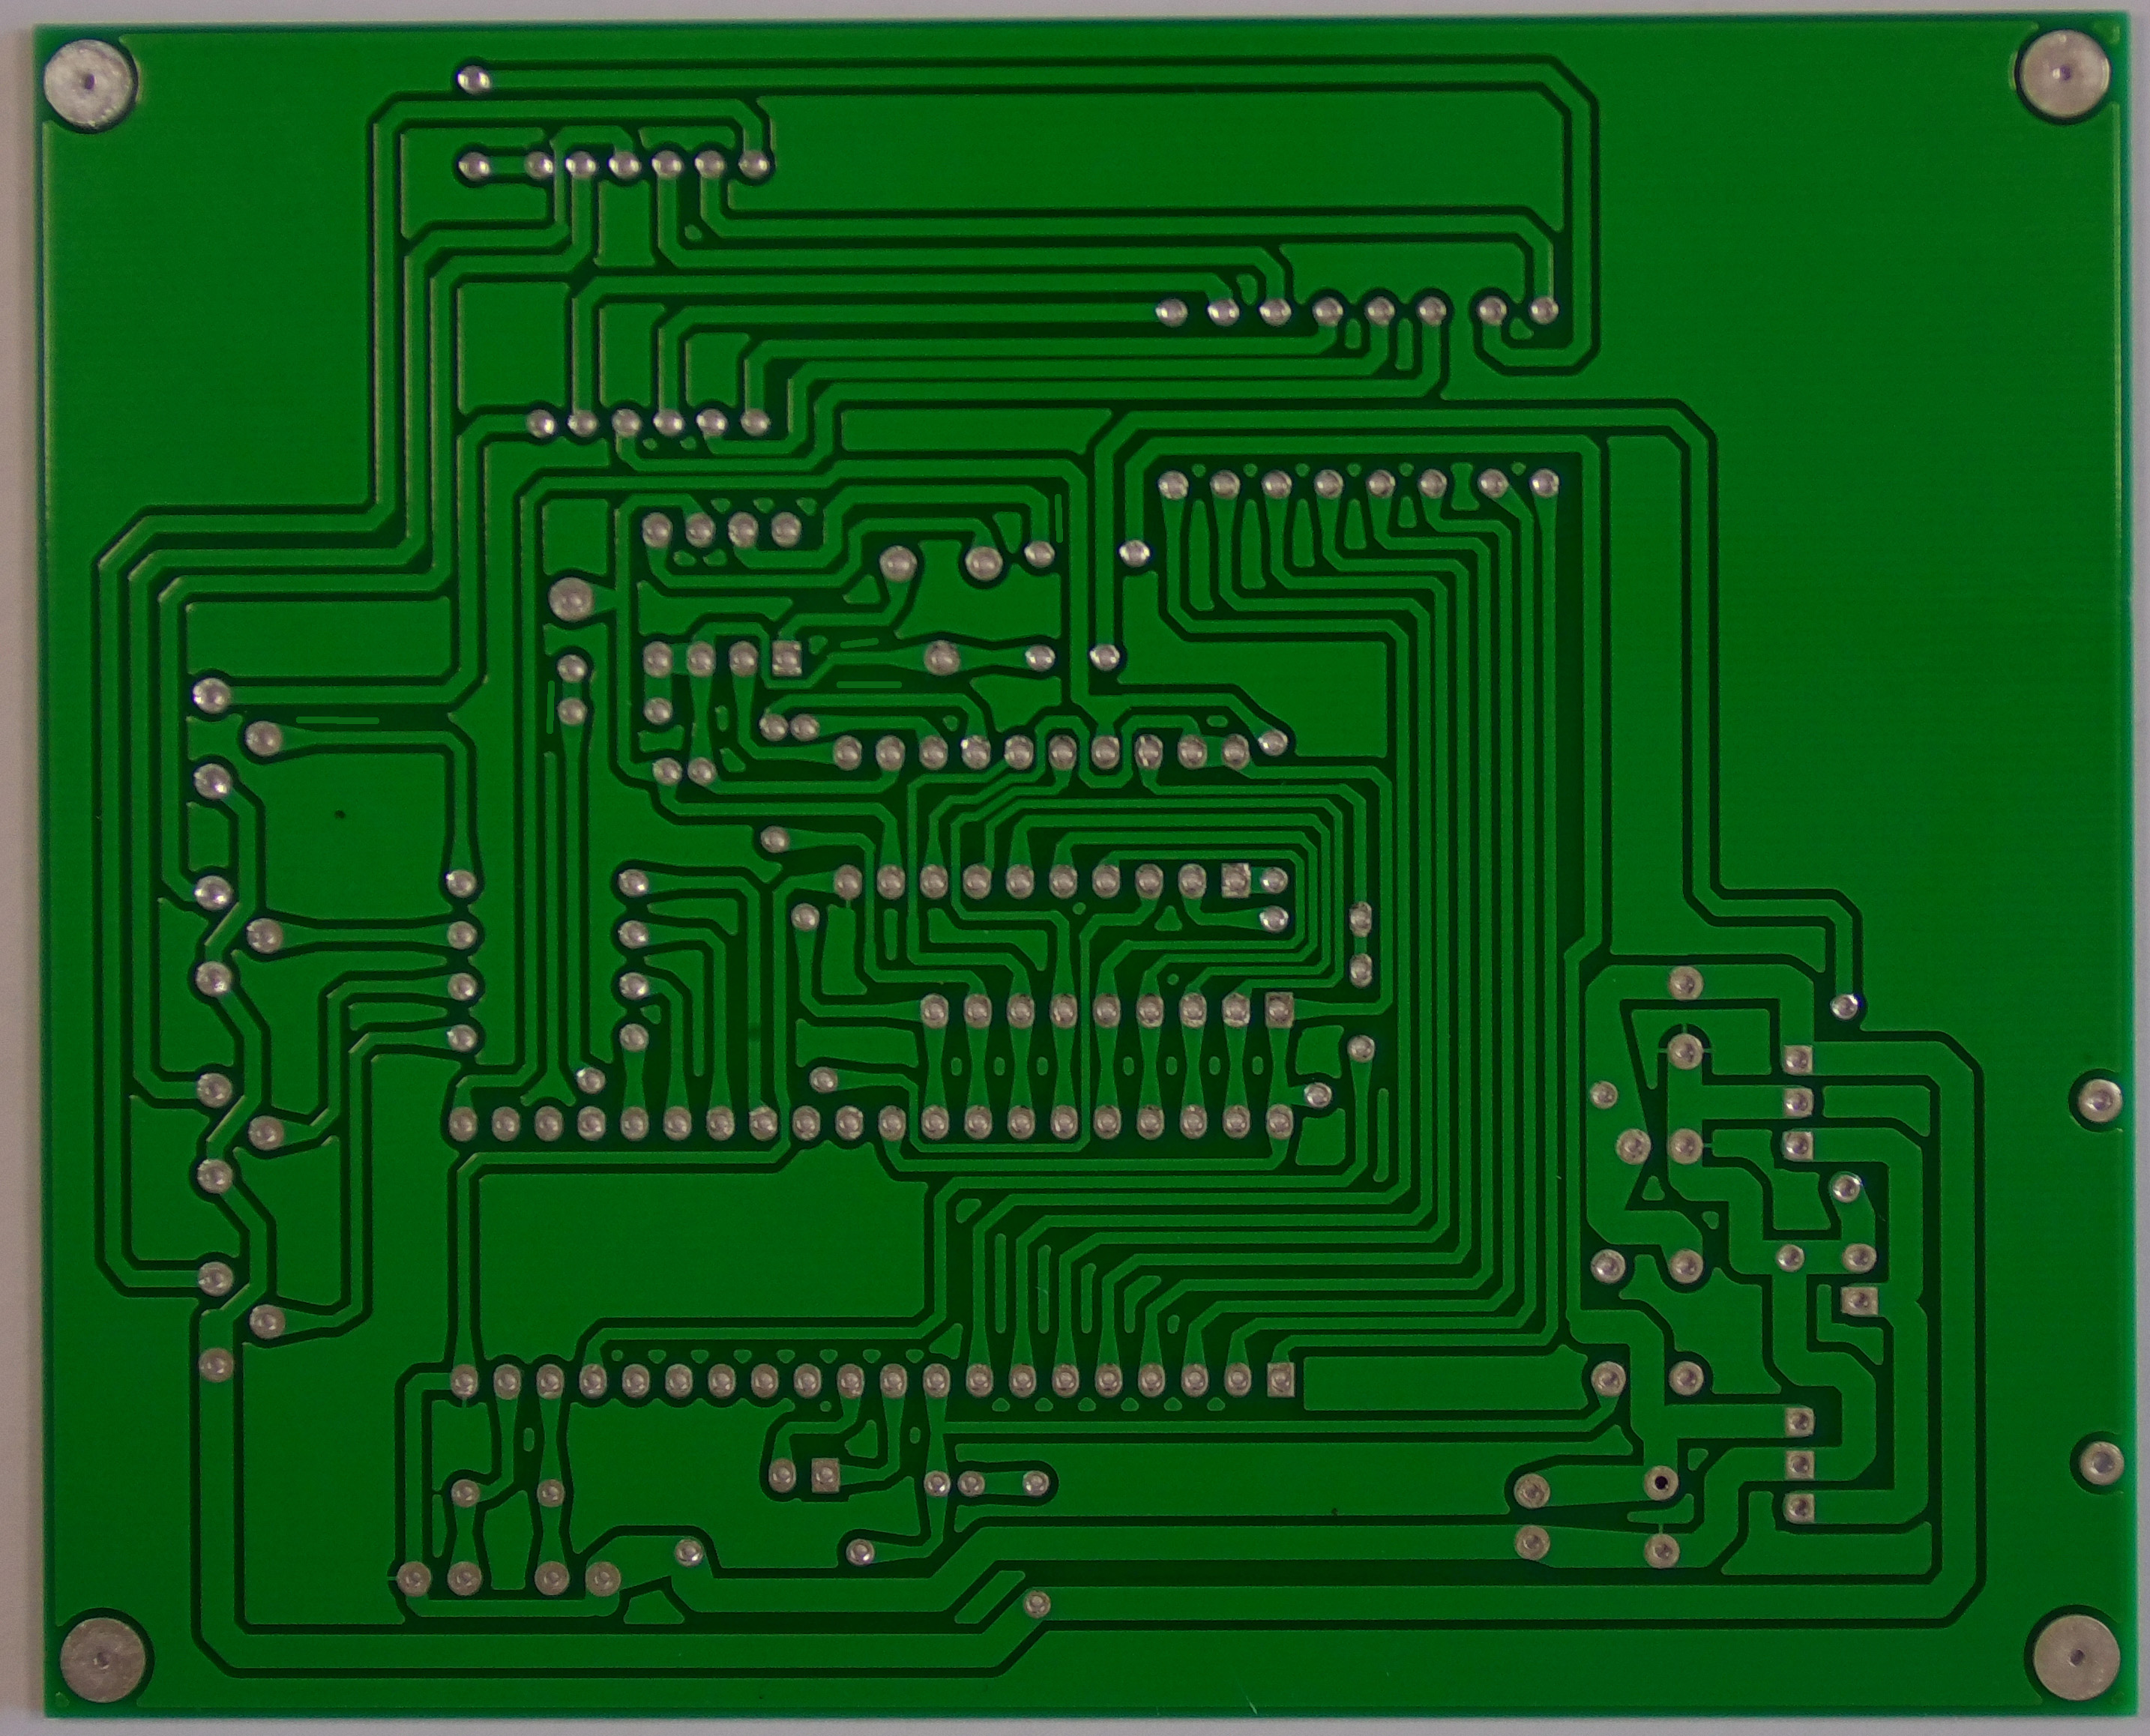spurious_copper: (286, 702, 387, 735), (537, 671, 567, 739), (1044, 484, 1076, 548), (831, 672, 907, 699), (833, 630, 885, 657)
